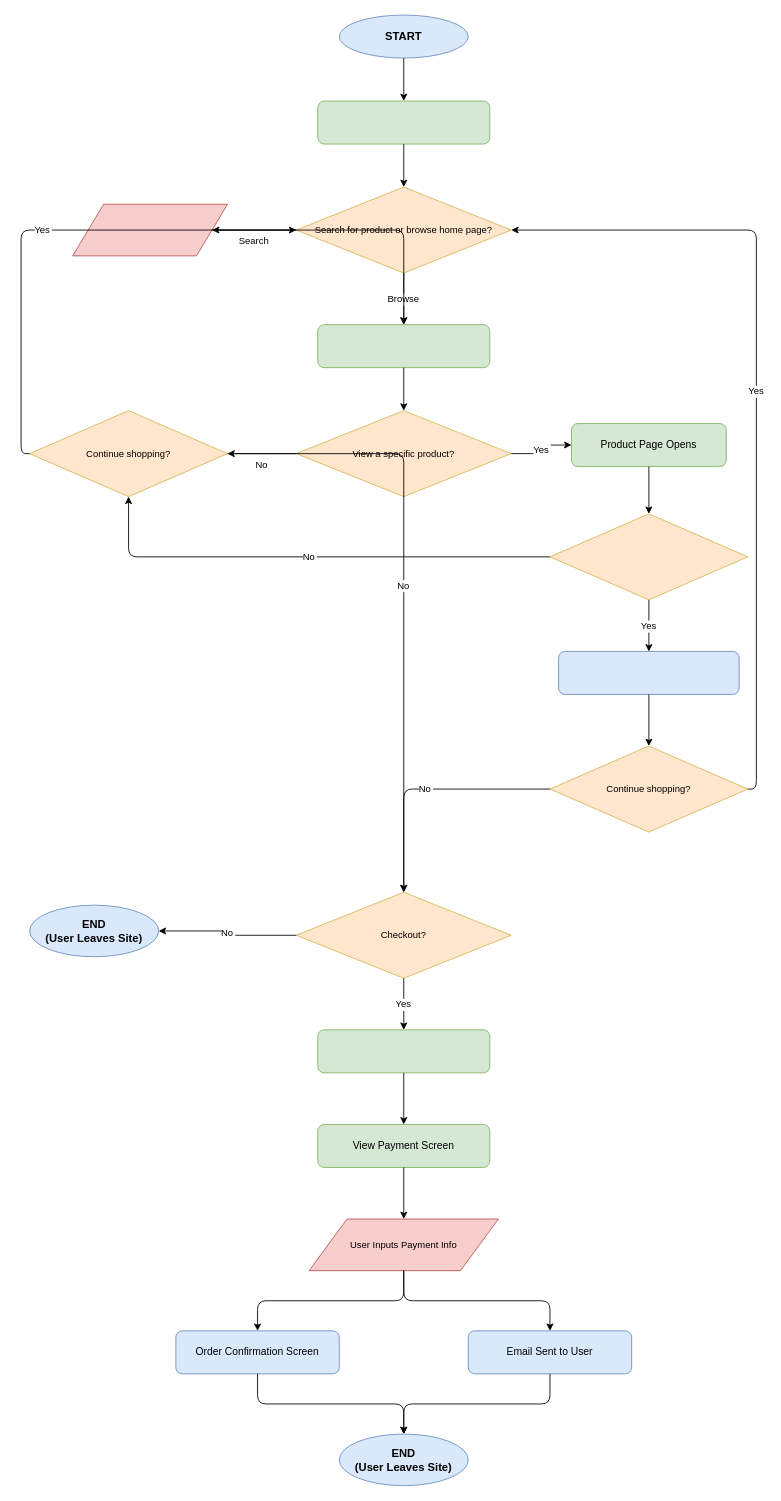
Some shapes in this 781 by 1501 pixel diagram are drawn without their labels. Here are the shapes that lost their labels. From the top down, the centre of each, then its label:
At (x=403, y=122): "User Enters Website".
At (x=149, y=229): "User Inputs Search Query".
At (x=403, y=346): "Browse Products".
At (x=648, y=556): "Add to cart?".
At (x=648, y=672): "Added to Cart Confirmation".
At (x=403, y=1051): "View Cart Screen".
